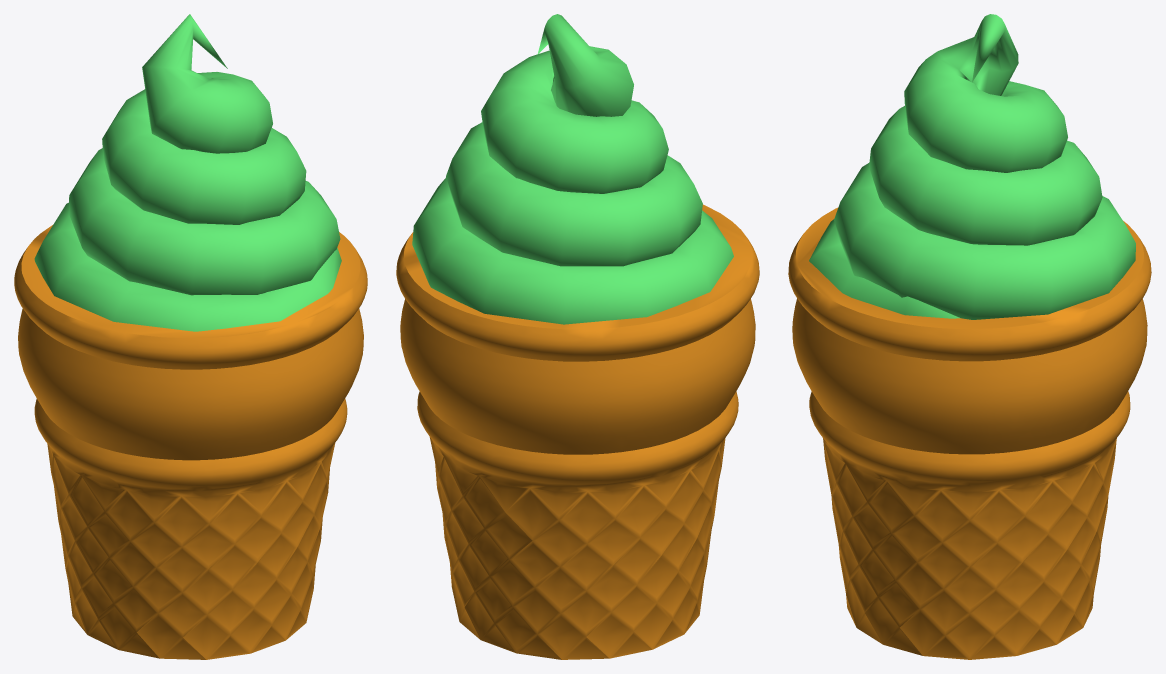
File: greensoft.fbx
The picture shows the model from 3 angles, left to right: view 1: azimuth 30°, elevation 25°; view 2: azimuth 150°, elevation 25°; view 3: azimuth 270°, elevation 25°; orthographic projection. The views are drawn at different scales.
Visible parts, largest first — view 1: Spiral; view 2: Spiral; view 3: Spiral.
Part boxes in pixels (box(x1,y1,x2,y2)): Spiral: box(14, 14, 367, 659); Spiral: box(396, 14, 759, 659); Spiral: box(788, 14, 1151, 659).
Bounding box in the file's own units: 2.36 × 4.29 × 2.36.
